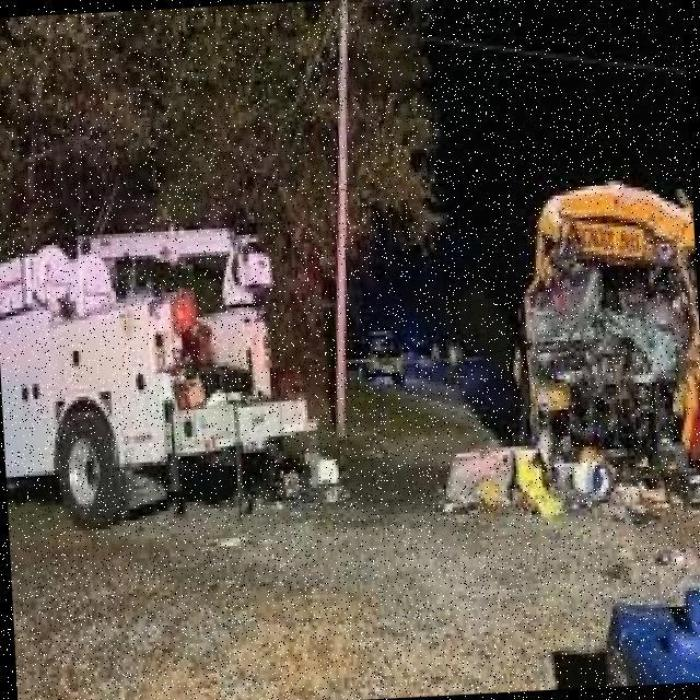Accident: (495, 124, 700, 526)
